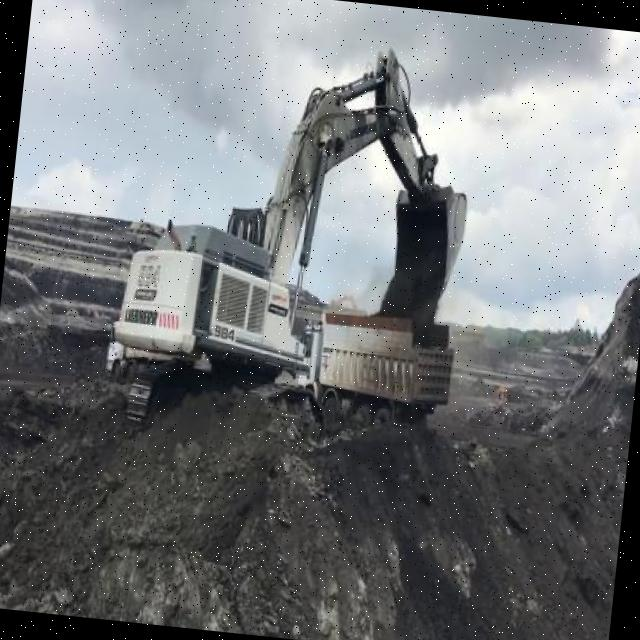Dump Truck: (288, 306, 456, 449)
Excavator: (94, 14, 487, 467)
